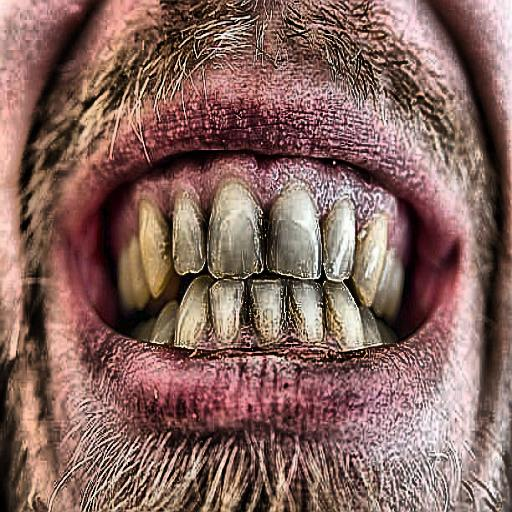Calculus: (118, 165, 399, 362)
